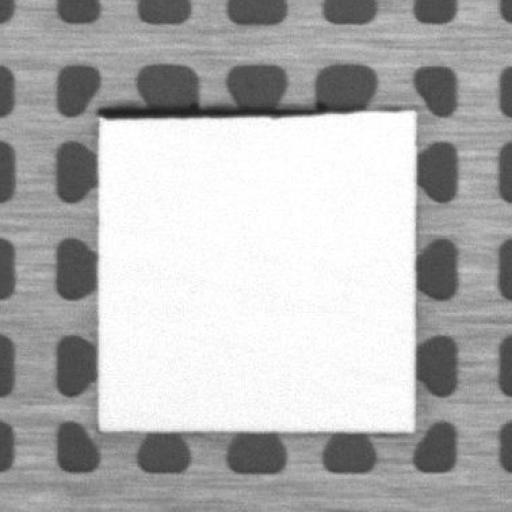DIE_BROKEN: (89, 96, 362, 120)
